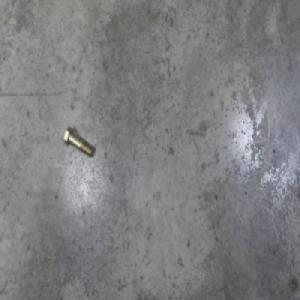Bolt: (63, 125, 94, 159)
